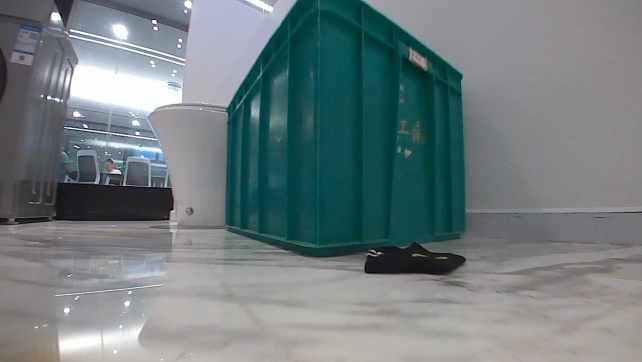socks: (361, 240, 469, 278)
toilet: (143, 97, 229, 228)
washing_machine1: (0, 0, 81, 230)
